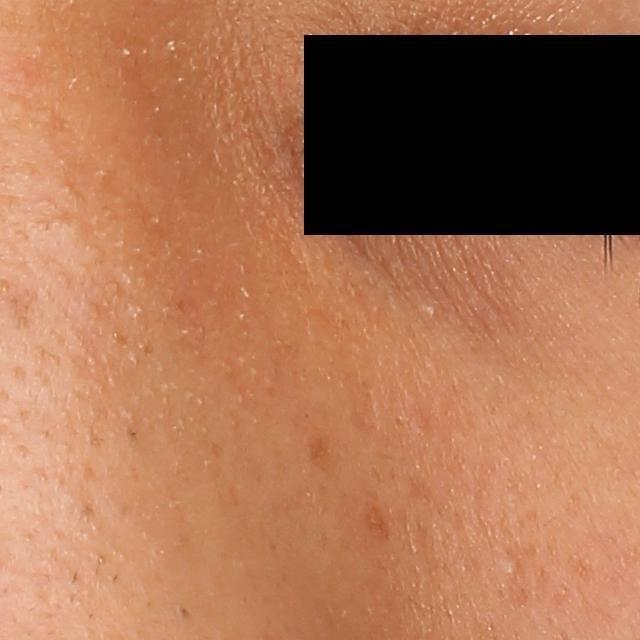comedo: (501, 558, 520, 577)
melasma: (299, 431, 345, 484), (353, 497, 401, 545)
